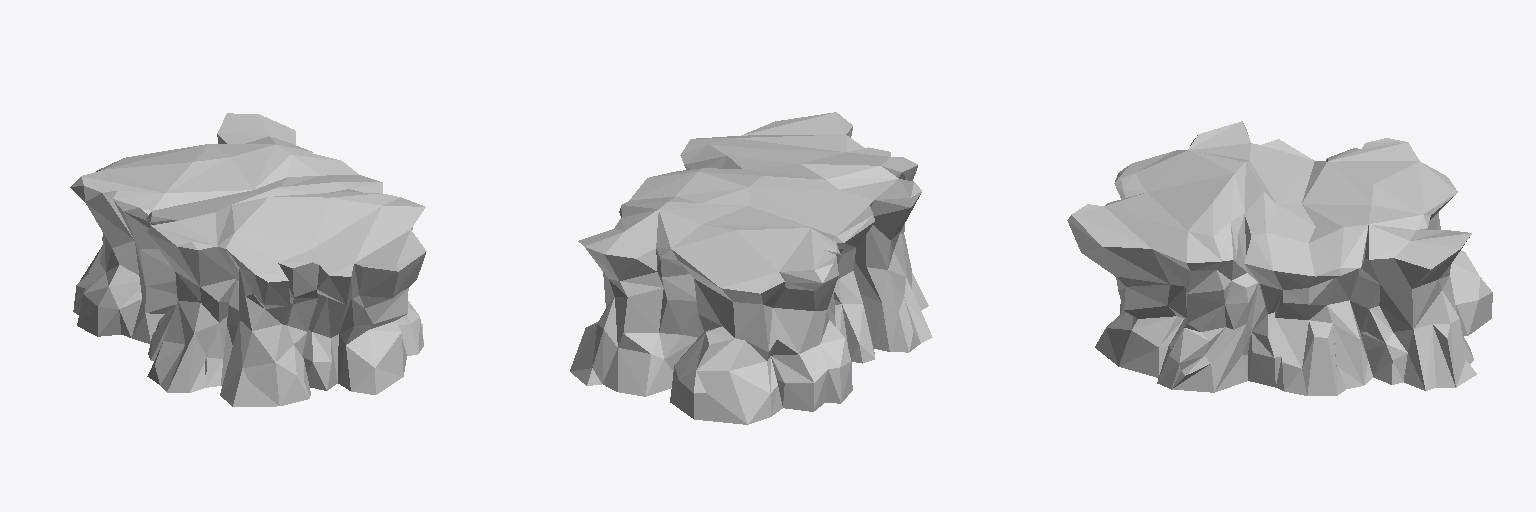
File: rock_003_LOD1.obj
3 views of the same model, side by side, from view 1: azimuth 30°, elevation 25°; view 2: azimuth 150°, elevation 25°; view 3: azimuth 270°, elevation 25° (orthographic).
Parts seen in each view (by area): view 1: rock_003_LOD1 rock_003; view 2: rock_003_LOD1 rock_003; view 3: rock_003_LOD1 rock_003.
Part boxes in pixels (x1,y1,x2,y2): rock_003_LOD1 rock_003: (70,113,426,406); rock_003_LOD1 rock_003: (570,112,932,424); rock_003_LOD1 rock_003: (1067,121,1492,395).
Bounding box in the file's own units: 1311 × 770 × 1902.